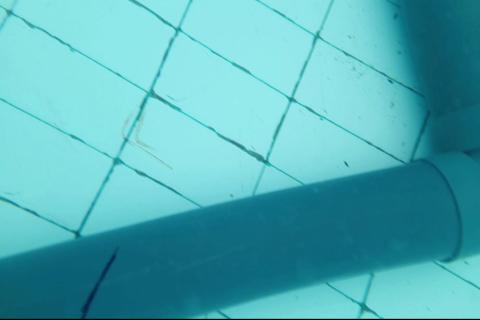keretakan: (78, 245, 119, 320)
